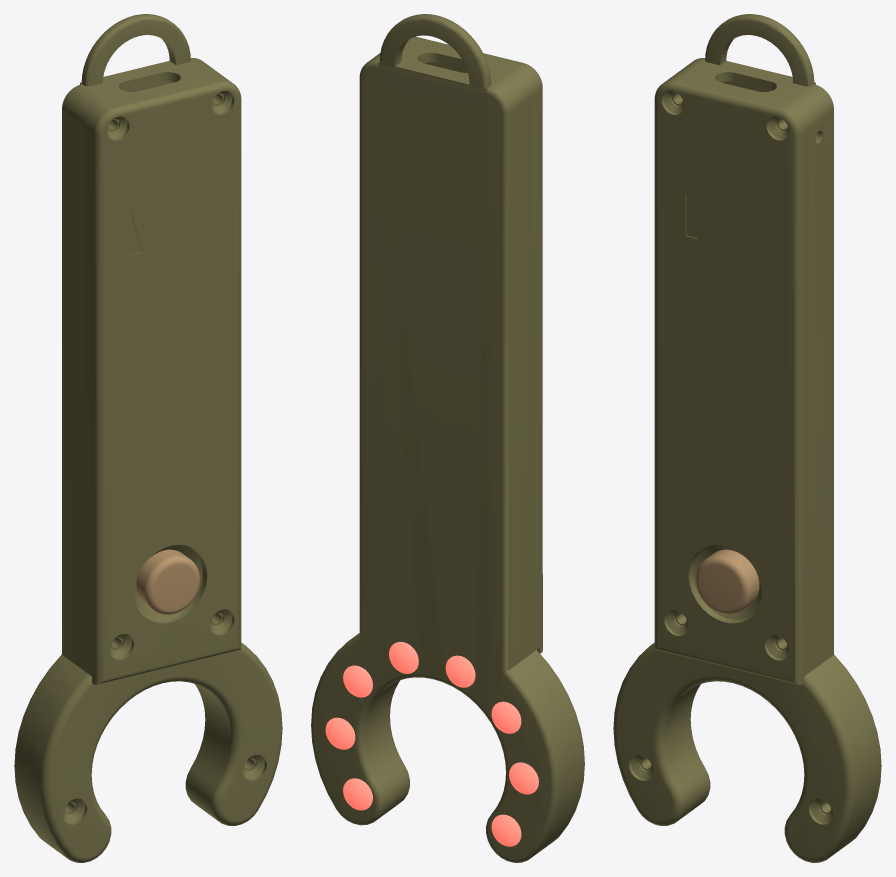
Rendered from venovisor-mark.glb.
The picture shows the model from 3 angles, left to right: view 1: azimuth 30°, elevation 25°; view 2: azimuth 150°, elevation 25°; view 3: azimuth 330°, elevation 25°; orthographic projection. The views are drawn at different scales.
Parts seen in each view (by area): view 1: body; view 2: body; view 3: body.
Boxes of the visible parts, x1,y1,x2,y2 form: body: (14,14,282,862); body: (311,14,584,862); body: (613,14,881,862).
Size of the model in its own units: 0.0396 by 0.1267 by 0.0123.
